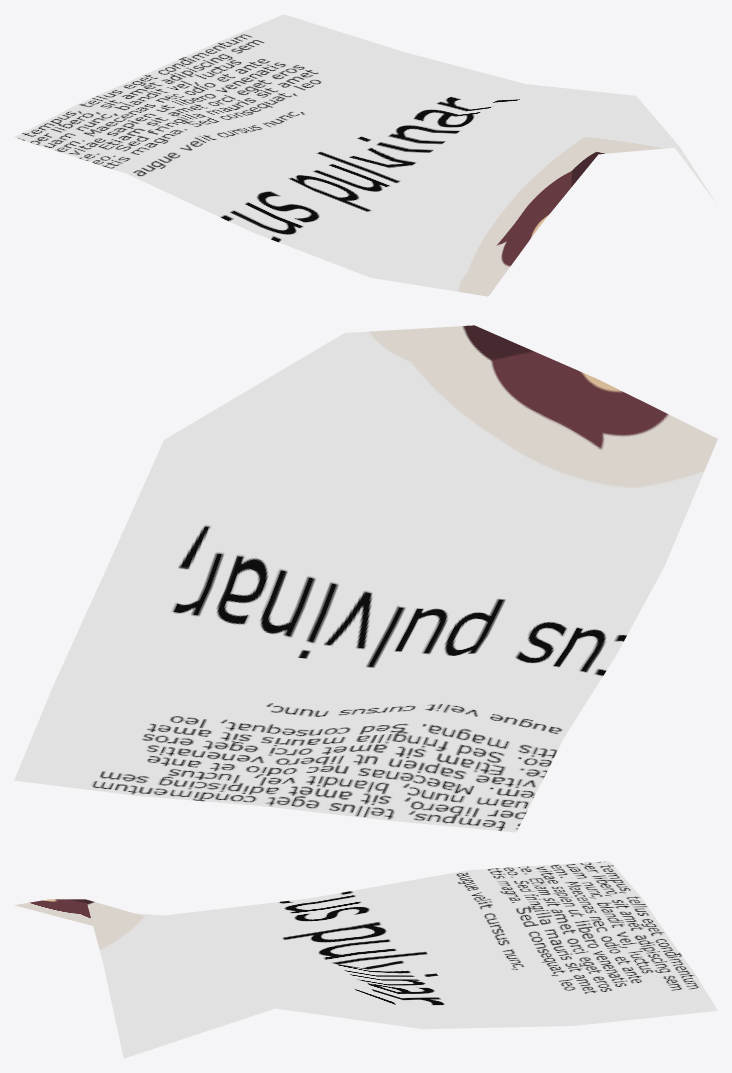
3 views of the same model, one above another, from view 1: azimuth 30°, elevation 25°; view 2: azimuth 150°, elevation 25°; view 3: azimuth 270°, elevation 25° (orthographic). The views are drawn at different scales.
Parts seen in each view (by area): view 1: Plane.028; view 2: Plane.028; view 3: Plane.028.
Part boxes in pixels (left/top/right/bottom): Plane.028: left=14, top=14, right=716, bottom=296; Plane.028: left=14, top=325, right=717, bottom=832; Plane.028: left=14, top=861, right=717, bottom=1058.
Bounding box in the file's own units: 0.7056 × 0.1658 × 1.01.
1 material, 1 textured.
